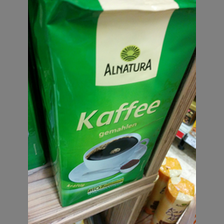coffee: (28, 1, 195, 206)
